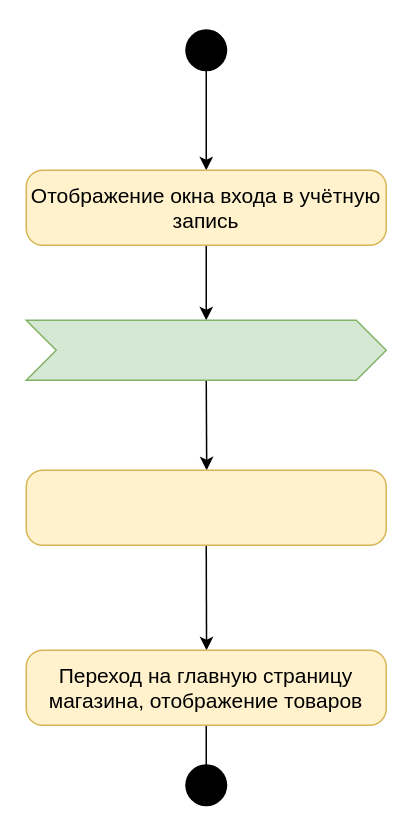
Image size: 413x834. Some labels were removed from this diagram. The centre of each missing label's shape, as x and y in pixels:
"Нажатие пользователем кнопки Sign in" goes at point (205, 349).
"Скрытие окна входа в учётную запись" goes at point (205, 507).
